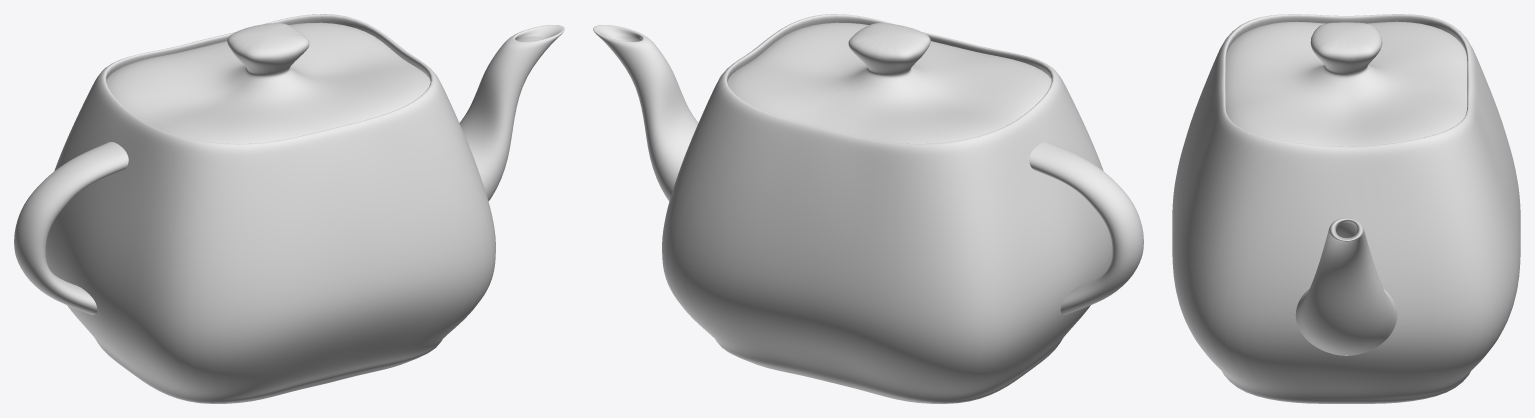
File: Teapot_Square_White.fbx
3 views of the same model, side by side, from view 1: azimuth 30°, elevation 25°; view 2: azimuth 150°, elevation 25°; view 3: azimuth 270°, elevation 25° (orthographic).
Parts seen in each view (by area): view 1: Teapot_Square; view 2: Teapot_Square; view 3: Teapot_Square.
Boxes of the visible parts, left/top/right/bottom form: Teapot_Square: left=14, top=14, right=564, bottom=403; Teapot_Square: left=593, top=14, right=1143, bottom=403; Teapot_Square: left=1172, top=14, right=1520, bottom=403.
Bounding box in the file's own units: 27.61 × 15.01 × 15.33.
1 material, 1 textured.
